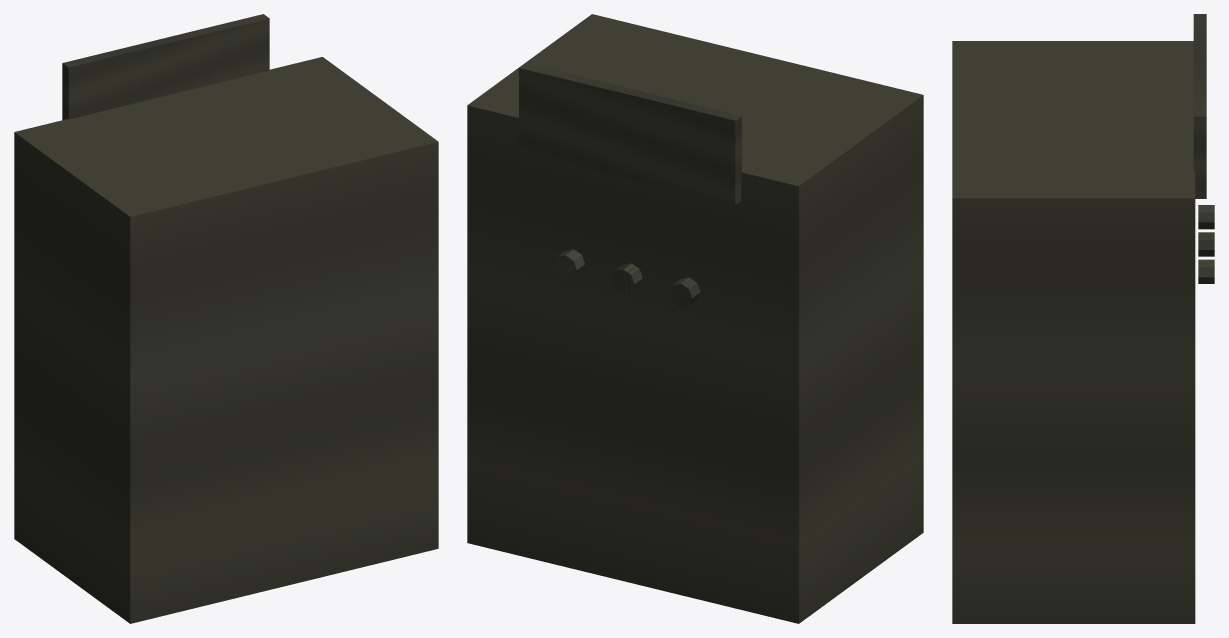
Rendered from env_training_hurdle_low_a.glb.
3 views of the same model, side by side, from view 1: azimuth 30°, elevation 25°; view 2: azimuth 150°, elevation 25°; view 3: azimuth 270°, elevation 25° (orthographic). The views are drawn at different scales.
Parts seen in each view (by area): view 1: env_training_hurdle_low_a; view 2: env_training_hurdle_low_a; view 3: env_training_hurdle_low_a.
Boxes of the visible parts, bbox=[...] form: env_training_hurdle_low_a: bbox=[14, 14, 438, 623]; env_training_hurdle_low_a: bbox=[467, 14, 923, 623]; env_training_hurdle_low_a: bbox=[952, 14, 1214, 623].
Bounding box in the file's own units: 1.15 × 1.66 × 0.81.
1 material, 1 textured.
